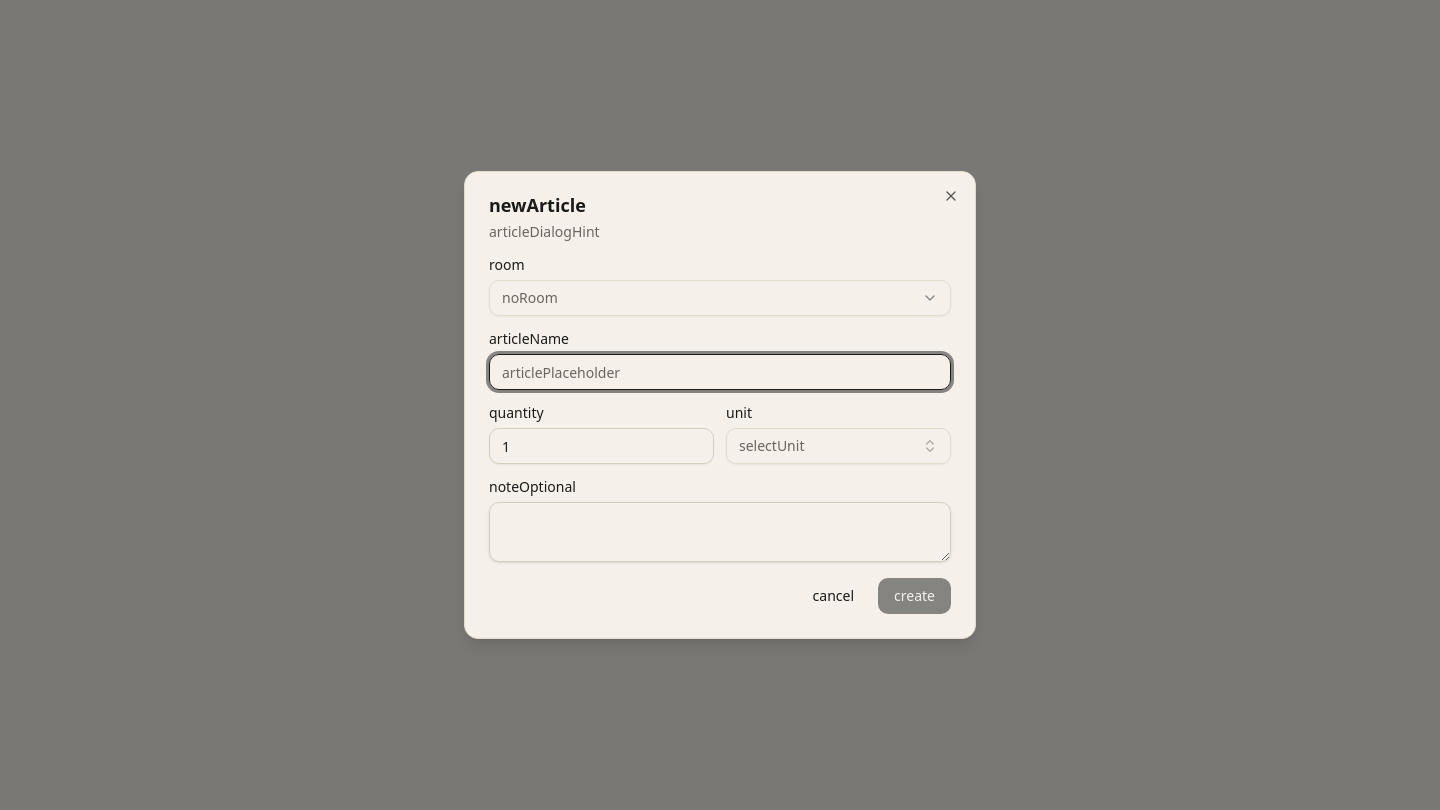
Scenario: ArticleFormDialog quantity › refuses text it cannot read, and says so once the field is left
The width and height of the screenshot is (1440, 810).
Step 1. Type "Plinthe" into the field labelled "articleName" → (720, 372), box [489, 354, 951, 390]
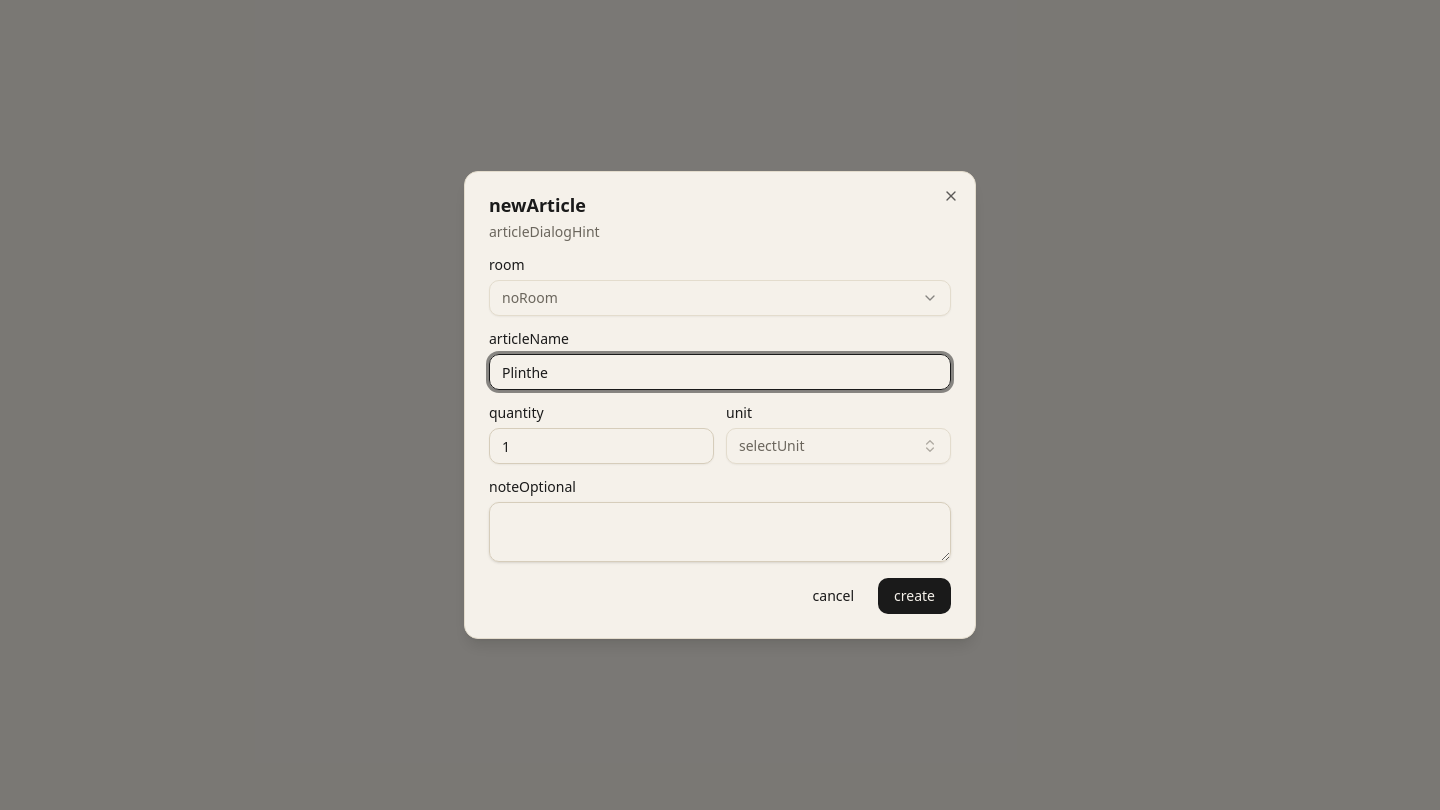
Step 2. Replace the text in the field labelled "quantity" with "2,5,5" → (602, 446), box [489, 428, 714, 464]
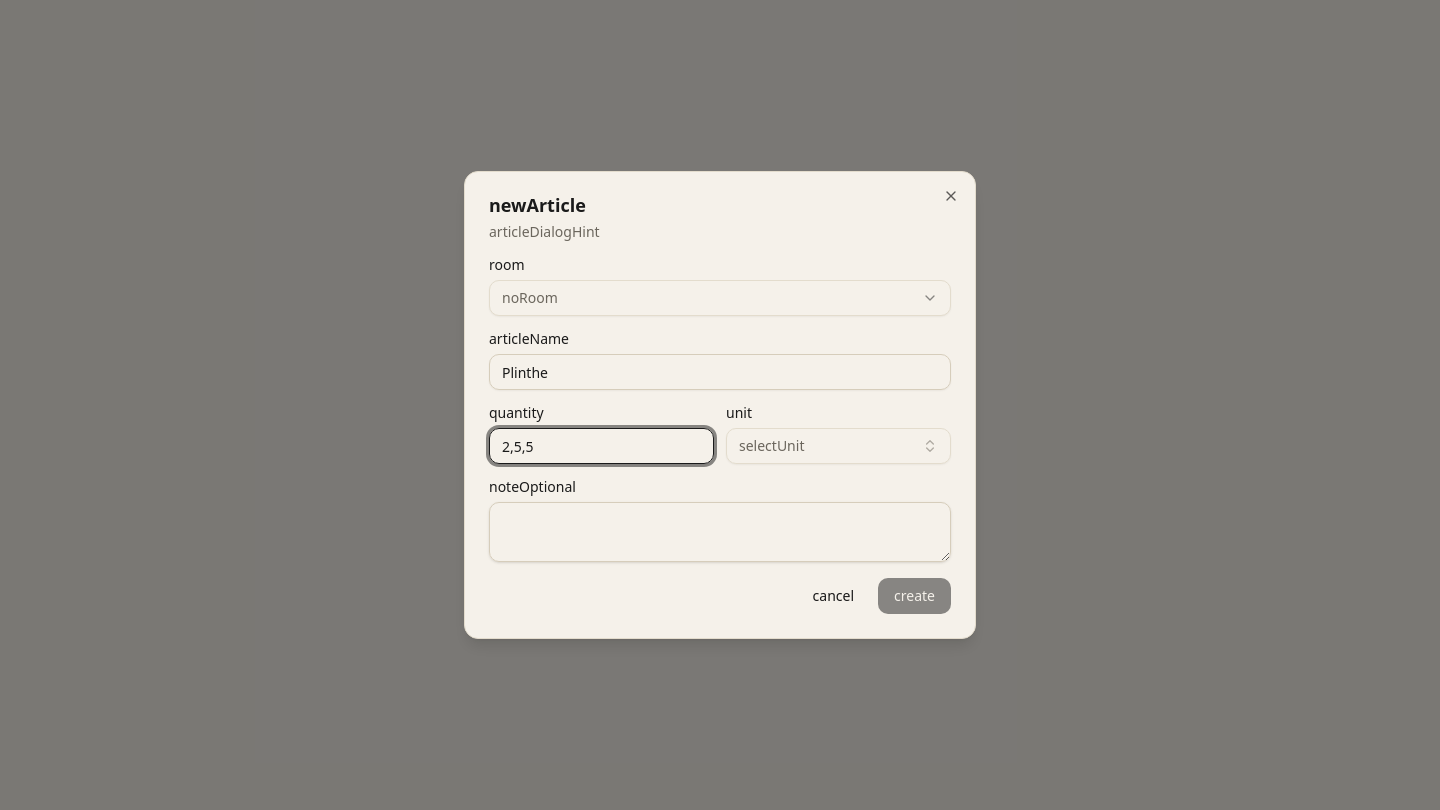
Expected: the text "quantityInvalid" is not shown
Step 3. Press Tab
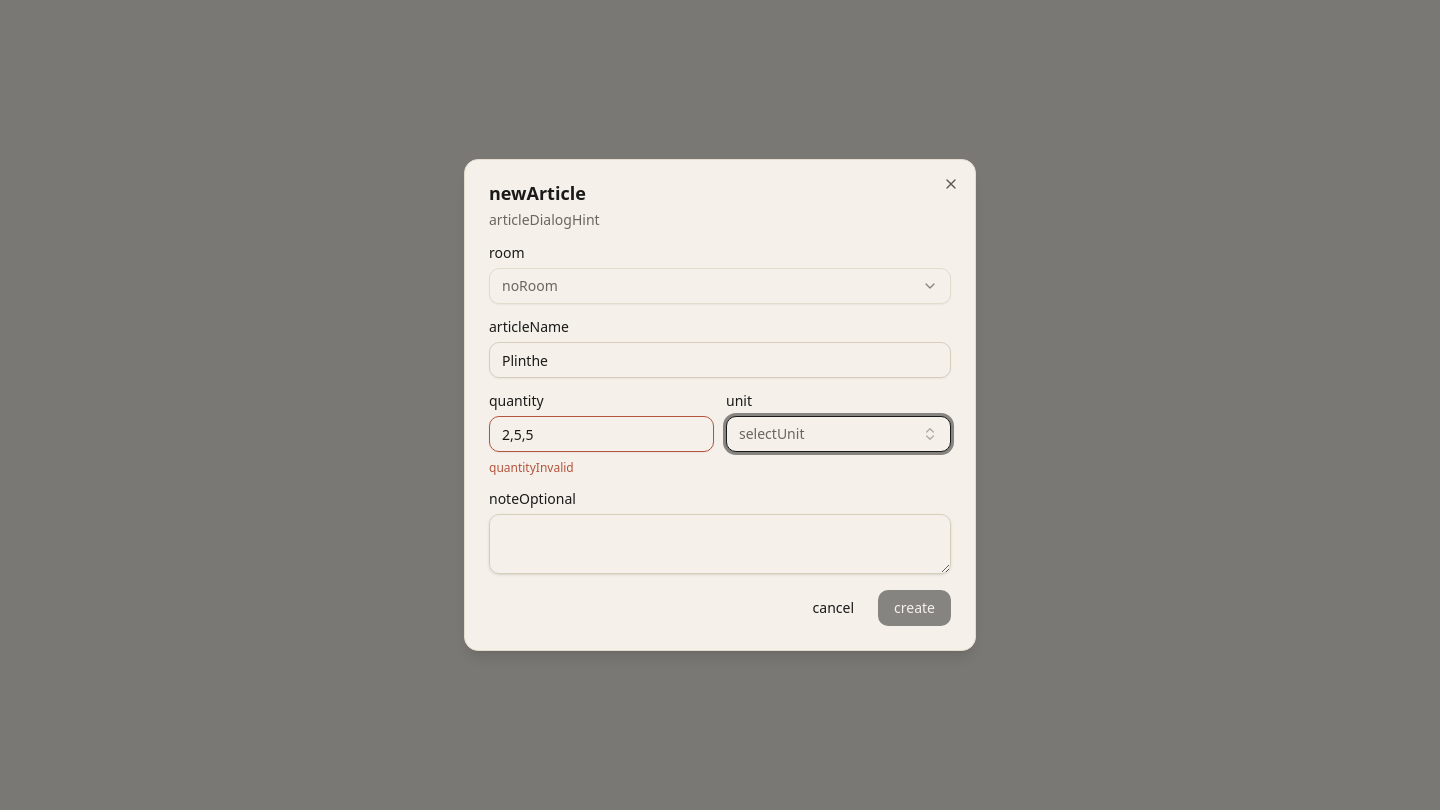
Result: the button "create" is disabled at [878, 590, 951, 626]
Result: the text "quantityInvalid" is shown at [489, 459, 574, 476]
